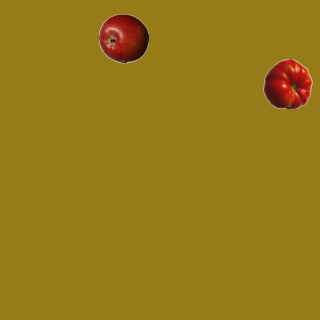Apple Braeburn: (98, 13, 148, 63)
Tomato 3: (262, 58, 312, 108)
